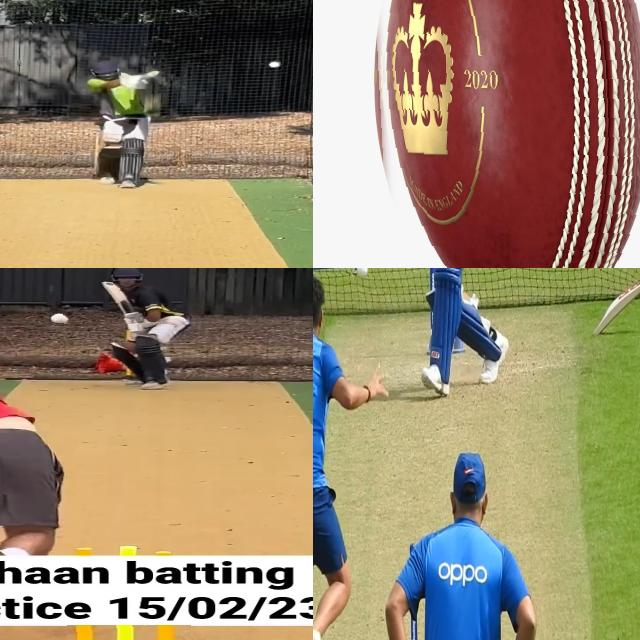Cricket ball: (366, 0, 640, 268), (49, 312, 71, 326), (355, 268, 368, 283), (267, 60, 284, 70)
